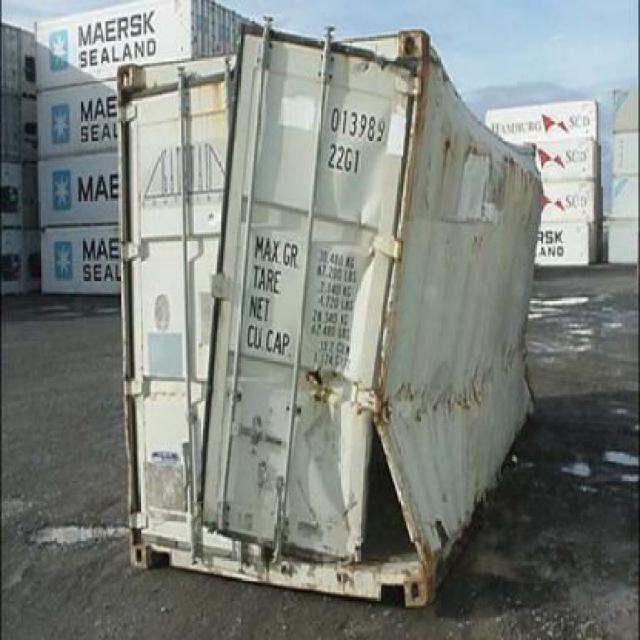Deframe: (374, 45, 543, 568)
Dent: (306, 420, 354, 517)
Hole: (361, 425, 417, 563), (306, 365, 323, 388)
